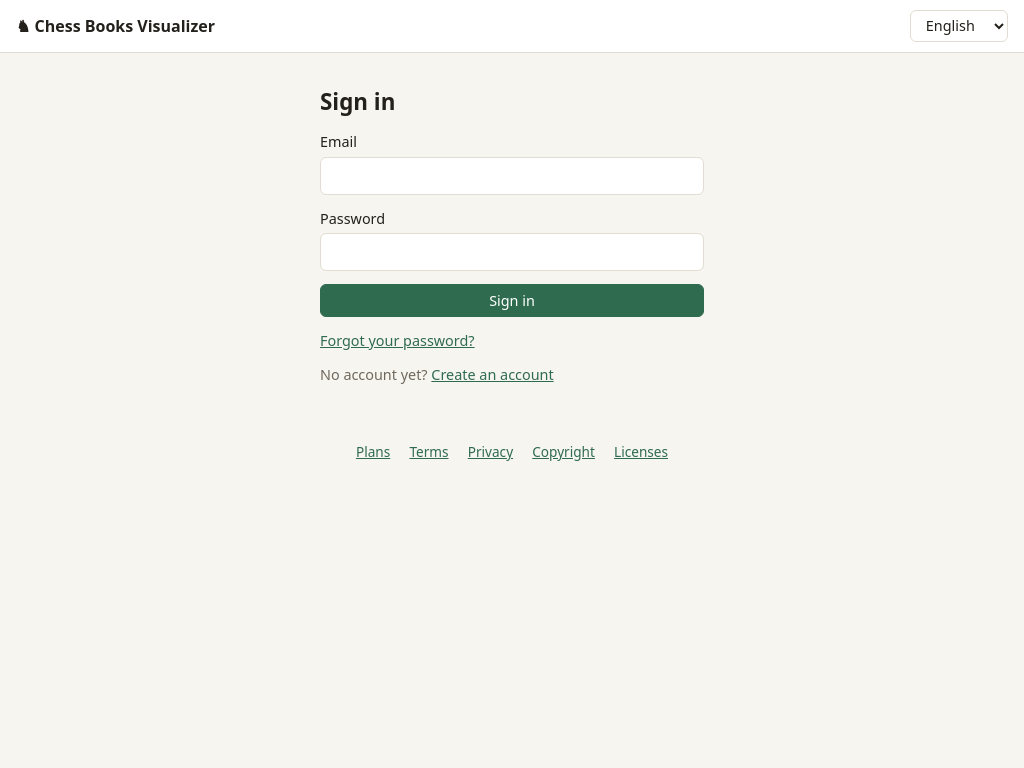
a hosted app › offers to send the link again to an email not confirmed yet
The image size is (1024, 768).
In the field labelled "Email": [512, 176] box [320, 157, 704, 195], type "ana@example.com"
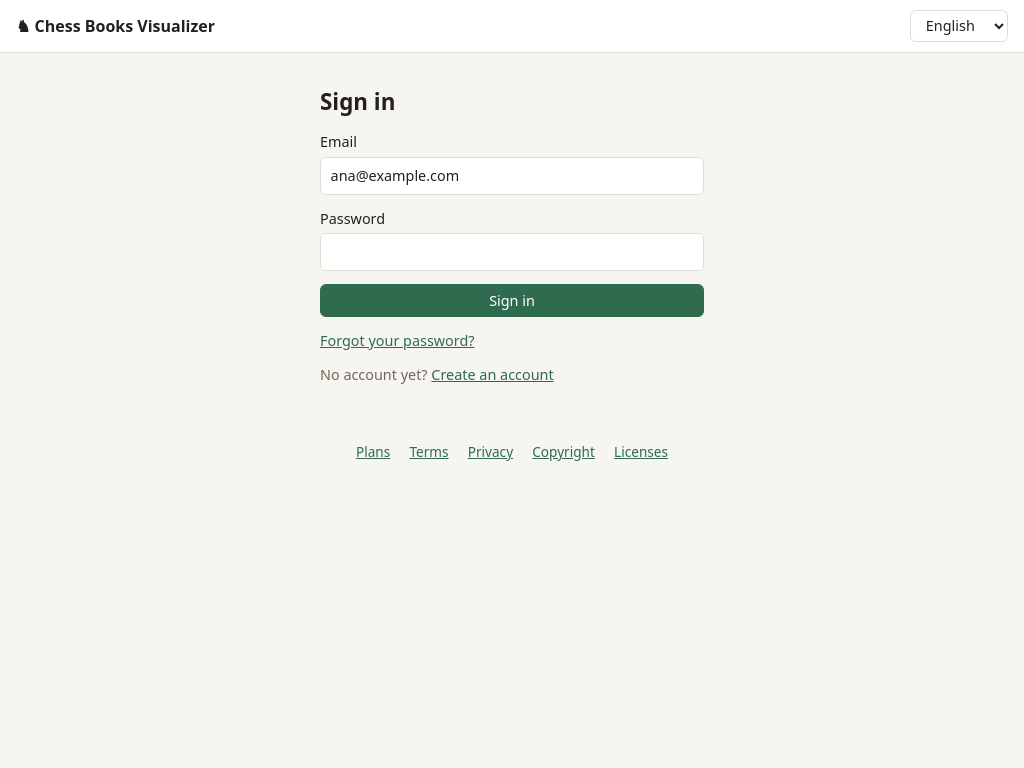
In the password field labelled "Password": [512, 252] box [320, 233, 704, 271], type "not confirmed"
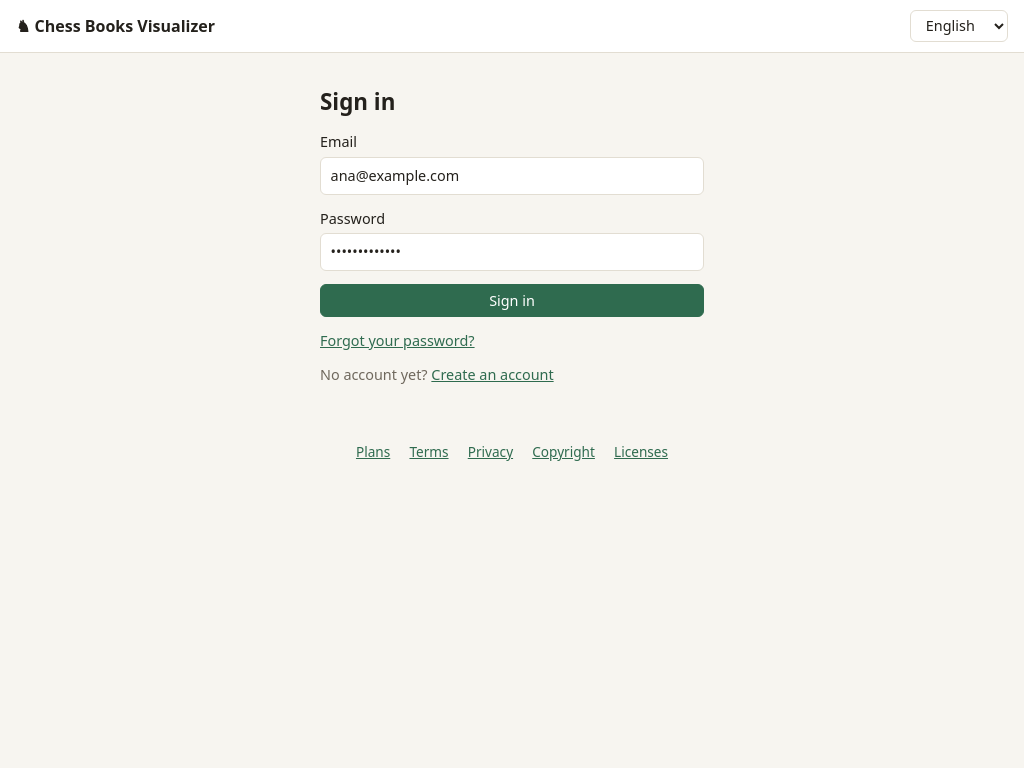
Click the button "Sign in": [512, 300] box [320, 284, 704, 317]
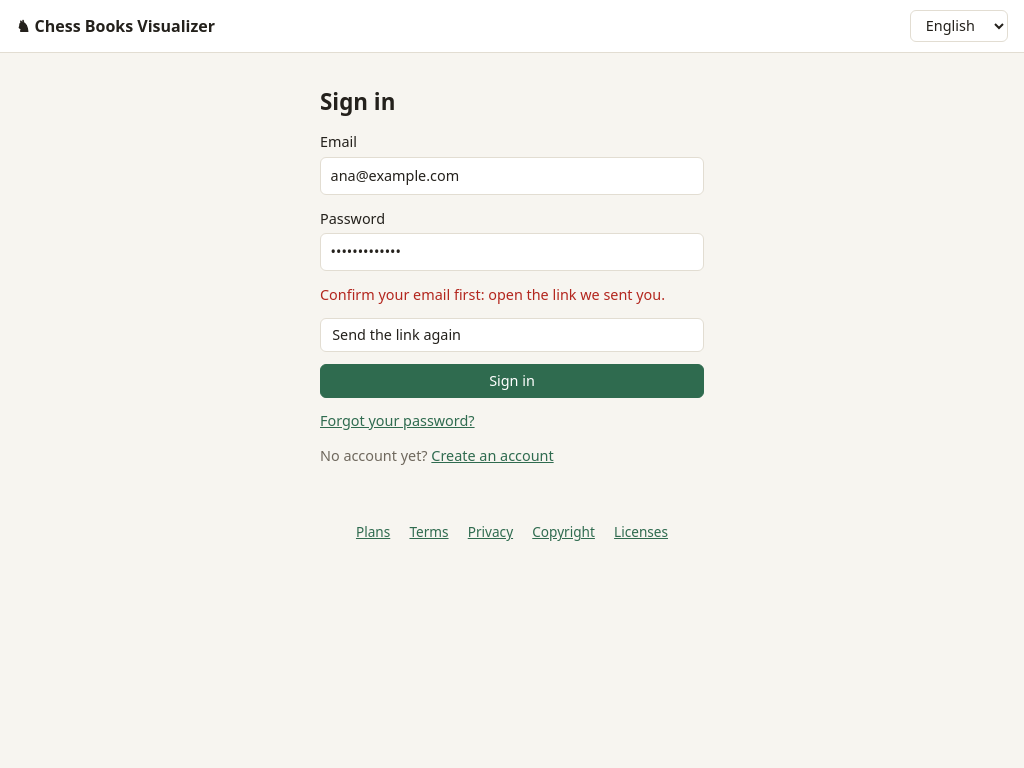
Click the button "Send the link again": [397, 335] box [320, 318, 704, 352]
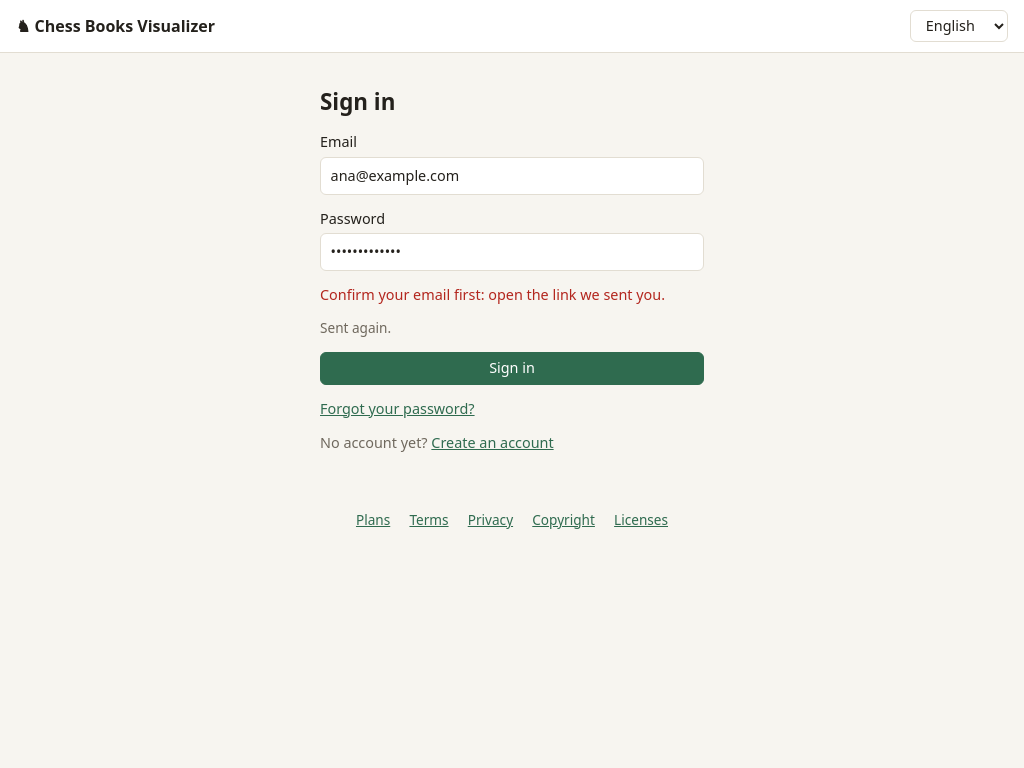
Result: the text "Sent again." is shown at [320, 318, 391, 337]
